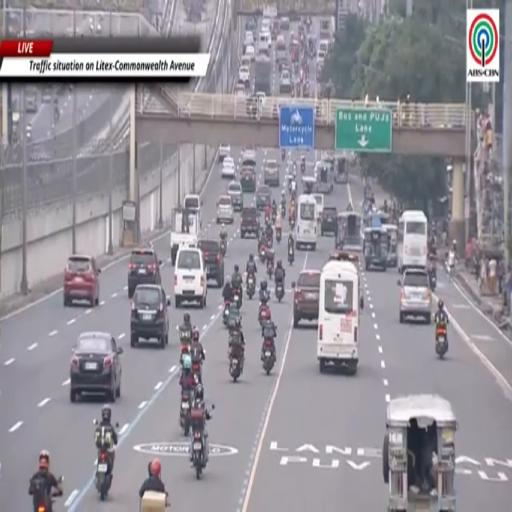bus: (317, 260, 362, 375), (397, 211, 428, 273), (296, 195, 317, 250)
car: (70, 332, 122, 403), (131, 285, 170, 348), (174, 247, 207, 308), (63, 254, 100, 307), (398, 269, 431, 324), (128, 248, 161, 298), (292, 270, 320, 327), (198, 239, 224, 287), (241, 207, 259, 238), (321, 206, 337, 235), (216, 196, 233, 223), (228, 182, 243, 212), (264, 159, 279, 186), (240, 167, 255, 193), (256, 185, 271, 211), (25, 87, 37, 113), (222, 156, 235, 179), (246, 95, 258, 118), (242, 148, 255, 167), (218, 143, 231, 162), (41, 85, 53, 104), (280, 73, 291, 93), (239, 67, 250, 85), (244, 45, 255, 62), (246, 19, 257, 36), (234, 83, 247, 97), (244, 30, 254, 47), (280, 70, 291, 85), (260, 18, 271, 33), (271, 20, 279, 40), (318, 40, 329, 54), (280, 16, 290, 30), (240, 56, 251, 68), (317, 51, 326, 65)
jeepney: (382, 394, 457, 511), (336, 212, 363, 252), (364, 227, 387, 270), (329, 250, 360, 277), (315, 158, 333, 194), (384, 224, 397, 266), (302, 176, 315, 194)
motorcycle: (94, 420, 112, 501), (192, 428, 206, 479), (192, 430, 205, 479), (230, 347, 244, 382), (262, 339, 275, 374), (180, 392, 190, 436), (436, 324, 448, 358), (259, 303, 270, 327), (428, 263, 436, 291), (33, 496, 47, 511), (192, 361, 202, 381), (247, 275, 255, 298), (179, 329, 191, 344), (223, 301, 230, 326), (276, 282, 284, 302), (233, 290, 241, 309), (259, 244, 266, 263), (220, 238, 226, 257), (288, 247, 294, 265), (267, 261, 273, 278), (267, 233, 273, 249), (289, 216, 295, 230), (264, 213, 271, 225), (276, 229, 281, 243), (281, 149, 286, 162), (272, 210, 276, 225), (281, 204, 285, 218), (288, 180, 292, 193), (301, 162, 305, 173)
truck: (170, 208, 200, 265), (254, 56, 272, 95)
